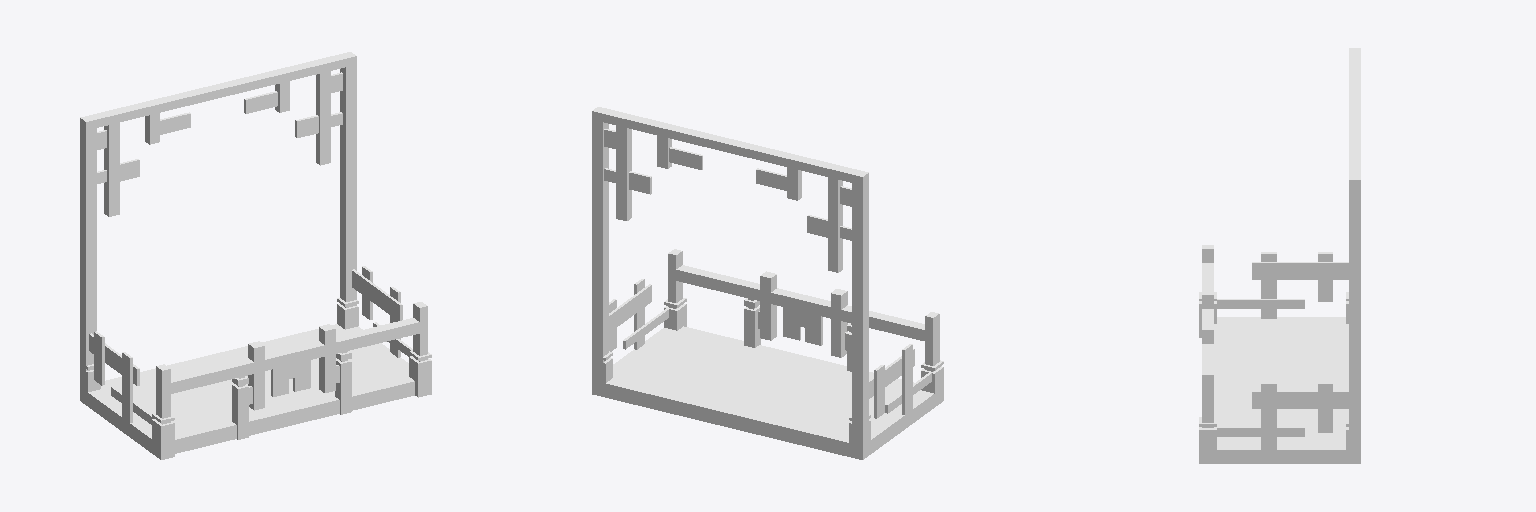
File: balcony_1.obj
3 views of the same model, side by side, from view 1: azimuth 30°, elevation 25°; view 2: azimuth 150°, elevation 25°; view 3: azimuth 270°, elevation 25° (orthographic).
Parts seen in each view (by area): view 1: balcony_1; view 2: balcony_1; view 3: balcony_1.
Boxes of the visible parts, x1=… form: balcony_1: x1=80, y1=52, x2=431, y2=459; balcony_1: x1=592, y1=107, x2=943, y2=459; balcony_1: x1=1199, y1=48, x2=1360, y2=463.
Size of the model in its own units: 100 by 100 by 52.